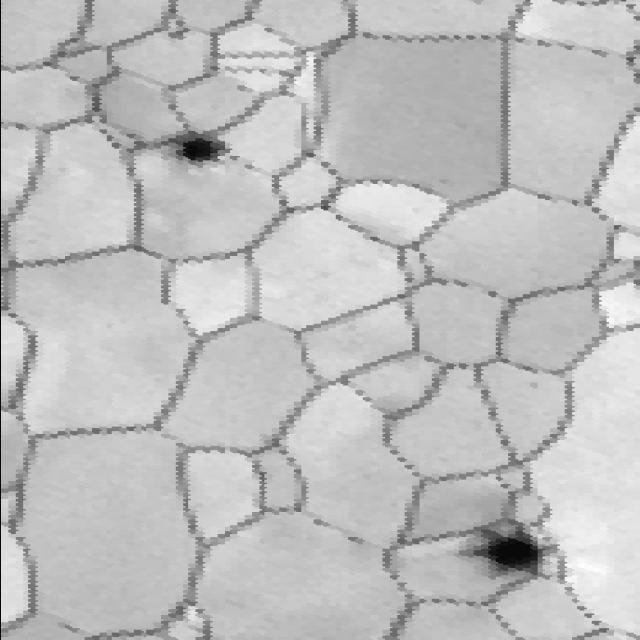good_void: (453, 522, 557, 582), (153, 131, 235, 170), (160, 27, 190, 45), (525, 379, 542, 390)
